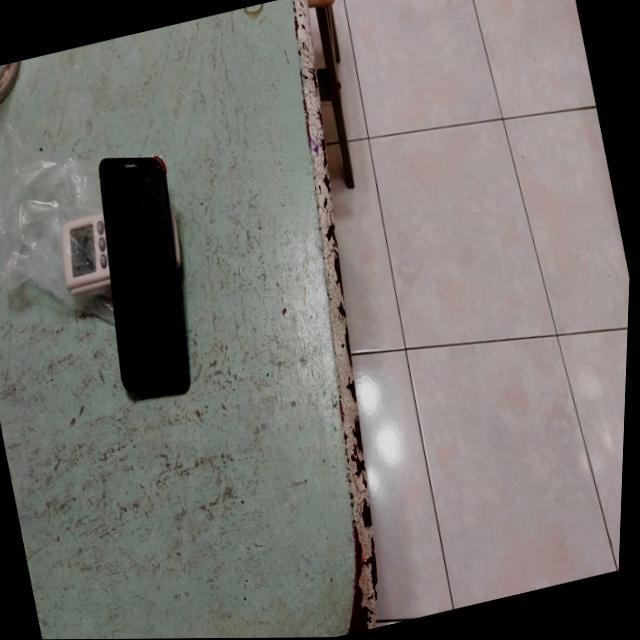Smartphone: (99, 154, 191, 393)
